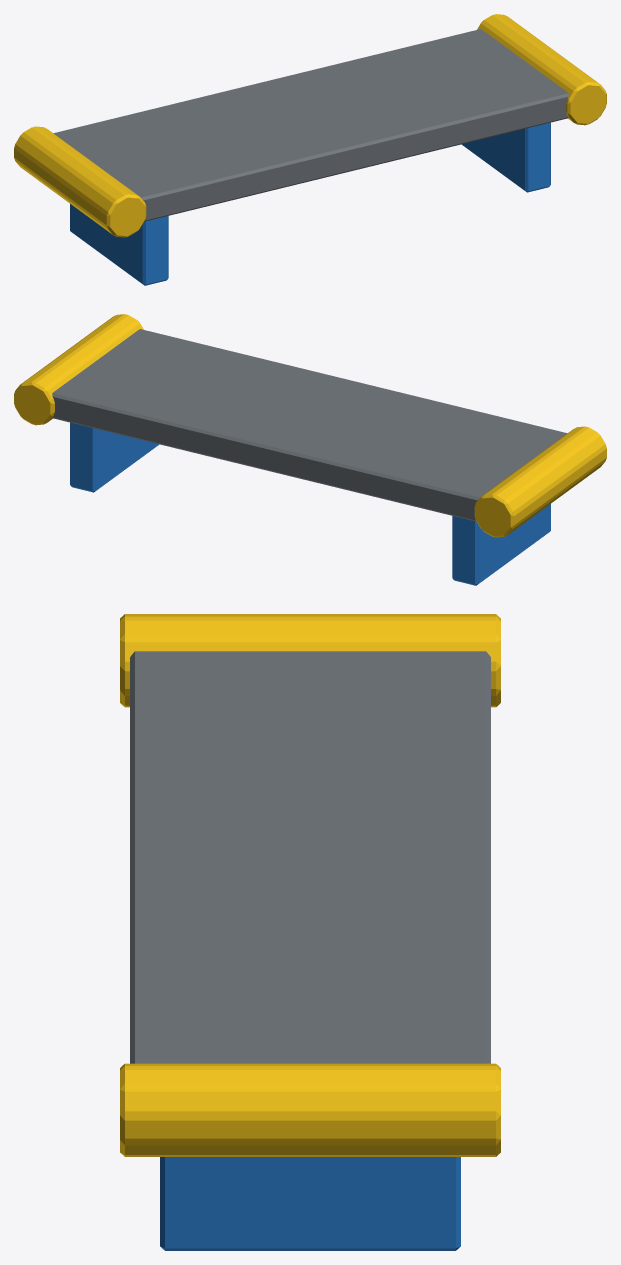
The model's file is conveyor.glb.
The picture shows the model from 3 angles, top to bottom: view 1: azimuth 30°, elevation 25°; view 2: azimuth 150°, elevation 25°; view 3: azimuth 270°, elevation 25°; orthographic projection. The views are drawn at different scales.
Parts seen in each view (by area): view 1: conveyor; view 2: conveyor; view 3: conveyor.
Part boxes in pixels (<box>): conveyor: <box>14,14,606,285</box>; conveyor: <box>14,314,606,585</box>; conveyor: <box>120,614,500,1250</box>.
Bounding box in the file's own units: 1.15 × 0.2315 × 0.38.
